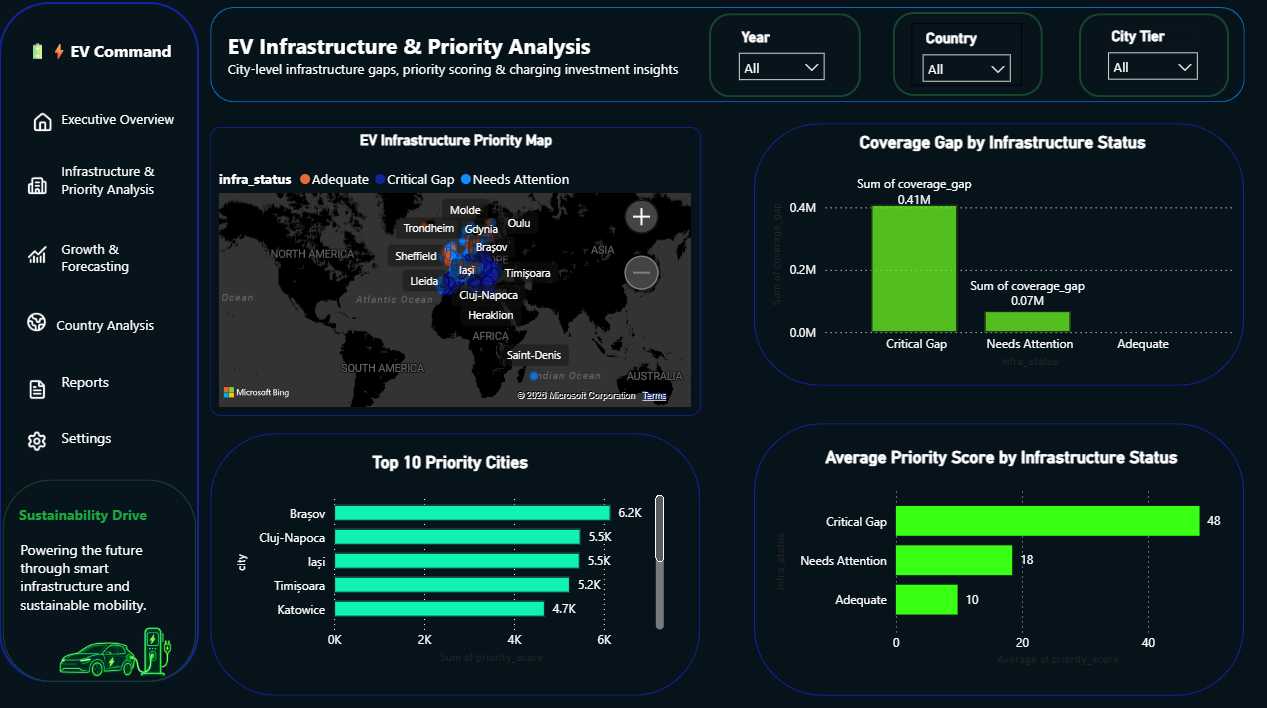

Layout of this report page (visuals, bound fields, positions):
{"tool":"powerbi","page":{"name":"2.Infrastructure & Priority Analysis","canvas":[1280,720],"ordinal":1},"visuals":[{"type":"shape","box":[4.4,5.6,200,680],"z":0},{"type":"shape","box":[216.2,10.3,1034.5,95.2],"z":1000},{"type":"textbox","box":[228.2,28.2,477.3,60.1],"z":2000},{"type":"textbox","box":[27.5,37.5,180,56.2],"z":3000},{"type":"textbox","box":[62.5,160,133.8,56.2],"z":4000},{"type":"textbox","box":[62.5,107.5,131.2,37.5],"z":5000},{"type":"textbox","box":[62.5,237.5,110,60],"z":6000},{"type":"textbox","box":[57.5,313.8,125,42.5],"z":7000},{"type":"textbox","box":[62.5,370,92.5,43.8],"z":8000},{"type":"textbox","box":[62.5,426.2,73.8,35],"z":9000},{"type":"image","box":[37.5,115,22.1,20.7],"z":10000},{"type":"image","box":[32.5,178.8,21,20],"z":11000},{"type":"image","box":[32.5,247.5,21,20],"z":12000},{"type":"image","box":[32.5,315,20.7,20],"z":13000},{"type":"image","box":[32.5,382.5,21,20],"z":14000},{"type":"image","box":[32.5,433.8,20.7,20.7],"z":15000},{"type":"shape","box":[8.8,482.5,193.3,202.2],"z":16000},{"type":"textbox","box":[20,502.5,157.5,32.5],"z":17000},{"type":"textbox","box":[21.2,537.5,155,92.5],"z":18000},{"type":"shape","box":[760.4,126.1,490,262.5],"z":19000},{"type":"image","box":[53.8,615,128.9,84.4],"z":20000},{"type":"clusteredColumnChart","title":"Coverage Gap by Infrastructure Status","fields":{"Category":["ev_charging_analysis ev_data.infra_status"],"Y":["Sum(ev_charging_analysis ev_data.coverage_gap)"]},"box":[772,135.1,472.5,240],"z":21000},{"type":"shape","box":[760.4,425.9,490,272.5],"z":22000},{"type":"barChart","title":"Average Priority Score by Infrastructure Status","fields":{"Category":["ev_charging_analysis ev_data.infra_status"],"Y":["Avg(ev_charging_analysis ev_data.priority_score)"]},"box":[775.9,450.3,462.5,223.8],"z":23000},{"type":"shape","box":[216.2,436.2,490,262.5],"z":24000},{"type":"clusteredBarChart","title":"Top 10 Priority Cities","fields":{"Category":["ev_charging_analysis ev_data.city"],"Y":["Sum(ev_charging_analysis ev_data.priority_score)"]},"box":[238,455.2,437.5,216.2],"z":25000},{"type":"map","title":"EV Infrastructure Priority Map","fields":{"Y":["Avg(ev_charging_analysis ev_data.latitude)"],"X":["Avg(ev_charging_analysis ev_data.longitude)"],"Size":["Avg(ev_charging_analysis ev_data.priority_score)"],"Category":["ev_charging_analysis ev_data.city"],"Series":["ev_charging_analysis ev_data.infra_status"]},"box":[216.2,130,490,289],"z":26000},{"type":"shape","box":[715.3,16,151.8,84],"z":27000},{"type":"shape","box":[898.2,14.7,150,84],"z":28000},{"type":"shape","box":[1084.7,16,150,84],"z":29000},{"type":"slicer","fields":{"Values":["ev_charging_analysis ev_data.year"]},"box":[733.7,25.8,107.5,63.8],"z":30000},{"type":"slicer","fields":{"Values":["ev_charging_analysis ev_data.country"]},"box":[917.8,25.8,110,62],"z":31000},{"type":"slicer","fields":{"Values":["ev_charging_analysis ev_data.city_tier"]},"box":[1104.3,24.5,110,66],"z":32000}]}

Visuals, with their boxes on the page's 1280x720 design canvas (x1, y1, x2, y2). These are canvas units, not pixel positions in the 1267x708 screenshot, which may show the page scaled, cropped or inside an application window:
shape: crop(4, 6, 204, 686)
shape: crop(216, 10, 1251, 106)
textbox: crop(228, 28, 706, 88)
textbox: crop(28, 38, 208, 94)
textbox: crop(62, 160, 196, 216)
textbox: crop(62, 108, 194, 145)
textbox: crop(62, 238, 172, 298)
textbox: crop(58, 314, 182, 356)
textbox: crop(62, 370, 155, 414)
textbox: crop(62, 426, 136, 461)
image: crop(38, 115, 60, 136)
image: crop(32, 179, 54, 199)
image: crop(32, 248, 54, 268)
image: crop(32, 315, 53, 335)
image: crop(32, 382, 54, 402)
image: crop(32, 434, 53, 454)
shape: crop(9, 482, 202, 685)
textbox: crop(20, 502, 178, 535)
textbox: crop(21, 538, 176, 630)
shape: crop(760, 126, 1250, 389)
image: crop(54, 615, 183, 699)
"Coverage Gap by Infrastructure Status" clusteredColumnChart: crop(772, 135, 1244, 375)
shape: crop(760, 426, 1250, 698)
"Average Priority Score by Infrastructure Status" barChart: crop(776, 450, 1238, 674)
shape: crop(216, 436, 706, 699)
"Top 10 Priority Cities" clusteredBarChart: crop(238, 455, 676, 671)
"EV Infrastructure Priority Map" map: crop(216, 130, 706, 419)
shape: crop(715, 16, 867, 100)
shape: crop(898, 15, 1048, 99)
shape: crop(1085, 16, 1235, 100)
slicer - ev_charging_analysis ev_data.year: crop(734, 26, 841, 90)
slicer - ev_charging_analysis ev_data.country: crop(918, 26, 1028, 88)
slicer - ev_charging_analysis ev_data.city_tier: crop(1104, 24, 1214, 90)
